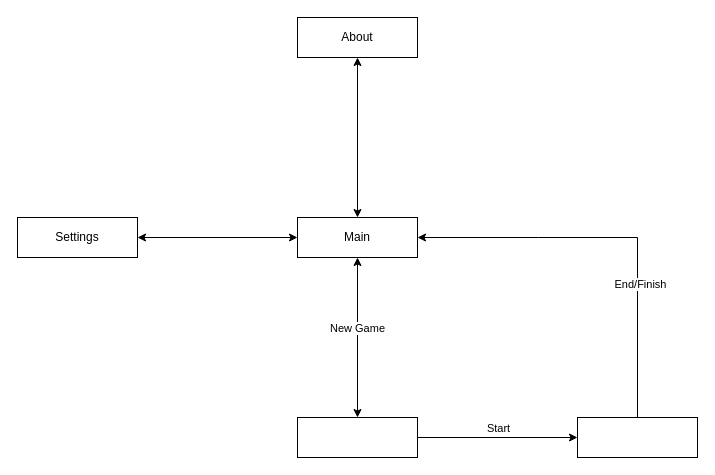
Image size: 715x475. Some labels were removed from this diagram. Each missing label, with the centre of its shape:
"Board" goes at point (637, 437).
"Game Options" goes at point (357, 437).
